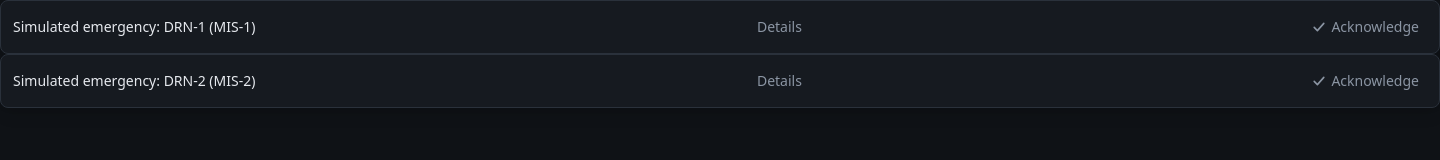
LiveDataNotices acknowledgement › leaves the other alerts and the details toggles alone
What coordinates should you click on to do the following:
click the button with aria-label "Show details for DRN-2"
I would click on:
 (779, 81)
Its box is left=749, top=61, right=810, bottom=101.
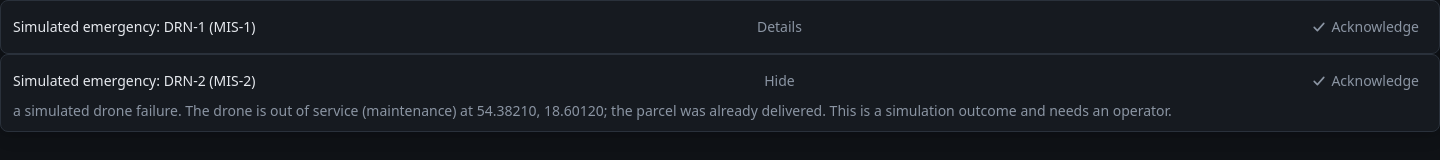
What coordinates should you click on to do the following:
click the button with aria-label "Acknowledge emergency for DRN-1"
I would click on:
 (1365, 27)
Its box is left=1303, top=7, right=1427, bottom=47.
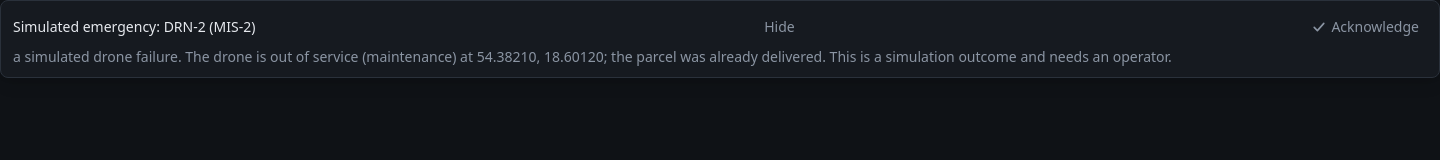
expect the button with aria-label "Hide details for DRN-2" is expanded: met, box left=756, top=7, right=803, bottom=47
expect the text "DRN-1 (MIS-1)" is gone: met
